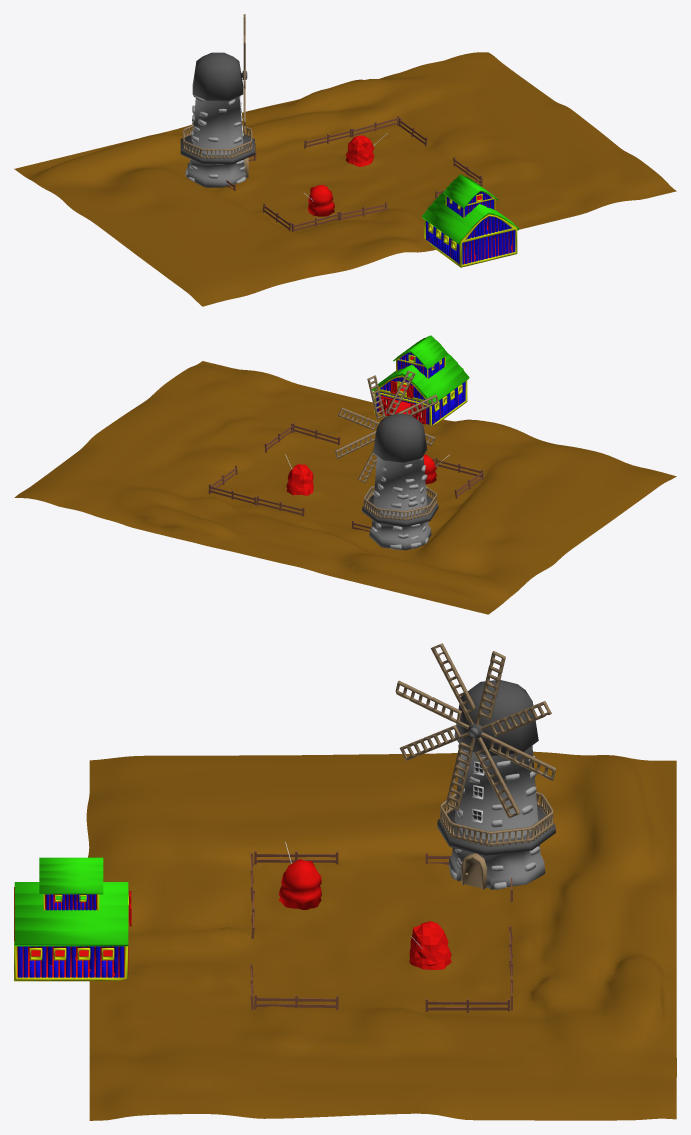
Rendered from Farm_Flat.fbx.
3 views of the same model, one above another, from view 1: azimuth 30°, elevation 25°; view 2: azimuth 150°, elevation 25°; view 3: azimuth 270°, elevation 25° (orthographic). The views are drawn at different scales.
Parts seen in each view (by area): view 1: Plane, TowerWindmill_Cylinder.008, BigBarn_Cube.034, HayStack, HayStack.002; view 2: Plane, TowerWindmill_Cylinder.008, BigBarn_Cube.034, HayStack; view 3: Plane, TowerWindmill_Cylinder.008, BigBarn_Cube.034, HayStack.002, HayStack, Fence_Cube.006.
Part boxes in pixels (bbox=[...]): Plane: bbox=[14, 52, 676, 306]; TowerWindmill_Cylinder.008: bbox=[180, 14, 255, 187]; BigBarn_Cube.034: bbox=[421, 174, 519, 267]; HayStack: bbox=[345, 133, 387, 166]; HayStack.002: bbox=[304, 184, 334, 216]; Plane: bbox=[14, 361, 676, 614]; TowerWindmill_Cylinder.008: bbox=[335, 370, 438, 550]; BigBarn_Cube.034: bbox=[372, 335, 469, 425]; HayStack: bbox=[285, 454, 313, 495]; Plane: bbox=[86, 751, 676, 1120]; TowerWindmill_Cylinder.008: bbox=[395, 643, 556, 889]; BigBarn_Cube.034: bbox=[14, 857, 131, 981]; HayStack.002: bbox=[278, 842, 321, 909]; HayStack: bbox=[409, 921, 451, 969]; Fence_Cube.006: bbox=[425, 998, 509, 1012].
Bounding box in the file's own units: 6001 × 1873 × 4639.
